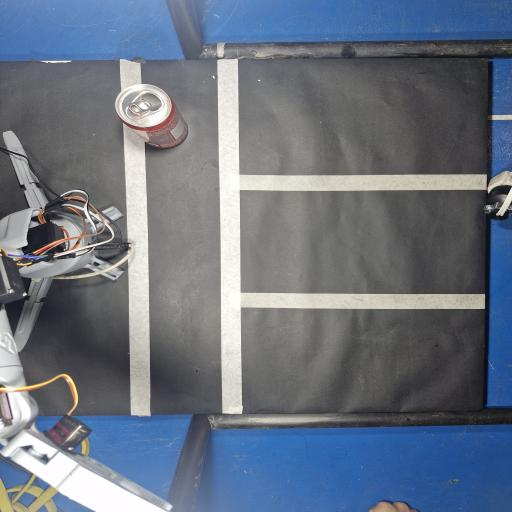lata: (116, 84, 187, 148)
